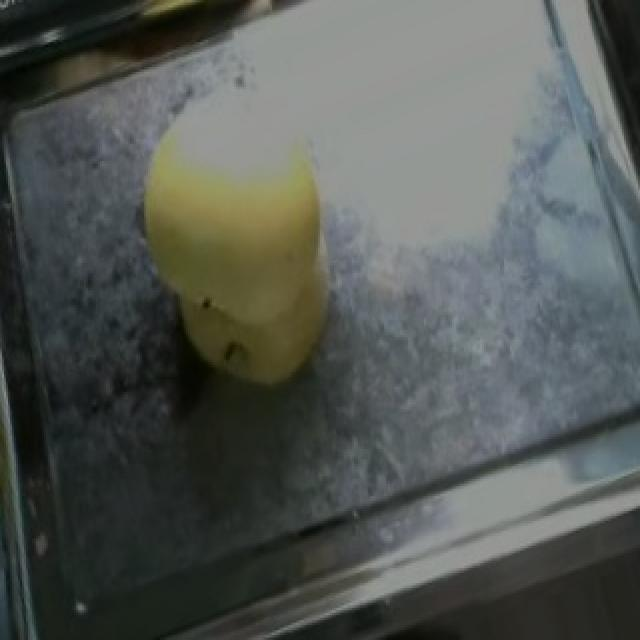Fruit: (108, 87, 374, 414)
